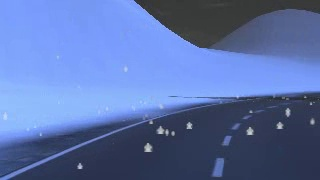Lane: (5, 91, 319, 179)
